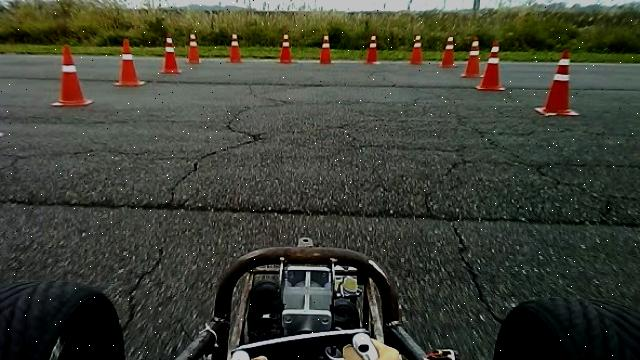red cone: (534, 48, 581, 116), (51, 44, 94, 106), (113, 38, 146, 87), (477, 41, 507, 92), (461, 36, 483, 78), (161, 34, 183, 74), (439, 36, 458, 68), (227, 32, 242, 63), (187, 33, 201, 64), (410, 34, 424, 65), (366, 35, 380, 64), (279, 32, 292, 63), (320, 34, 333, 64)
